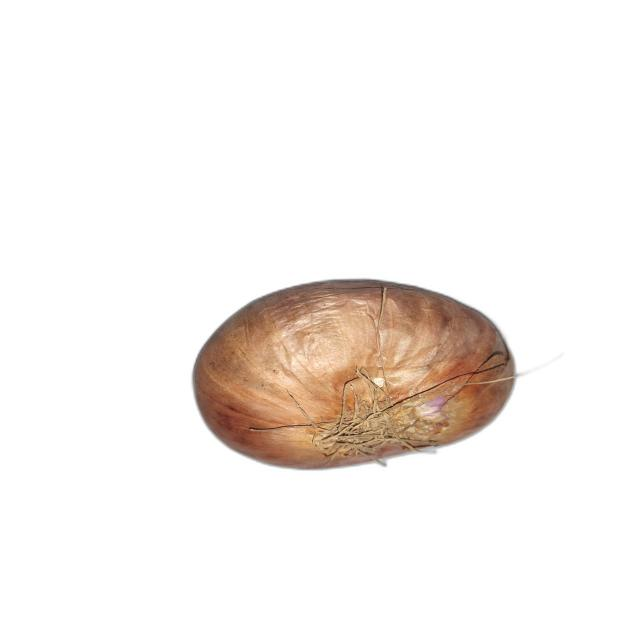onion: (192, 280, 517, 470)
